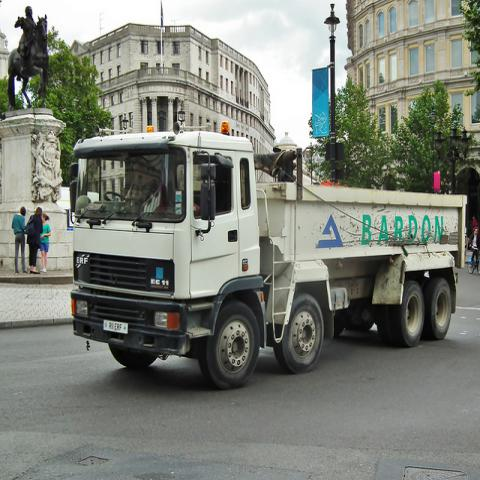truck: (73, 132, 470, 377)
